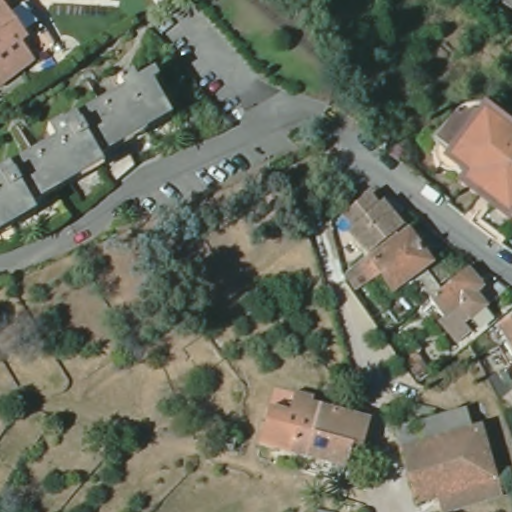pool: (336, 214, 354, 236)
